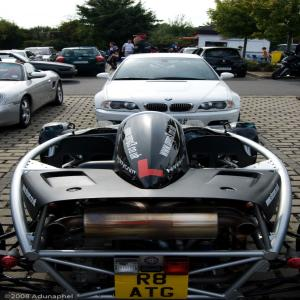Vehicle-registration-plate: (115, 271, 191, 300), (172, 118, 192, 125), (72, 62, 90, 66), (215, 68, 233, 72)
